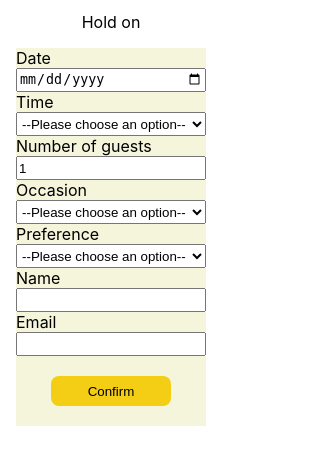
Test: Test BookingForm › Testing form validation on invalid inputs › test too small number of guests
The width and height of the screenshot is (320, 459).
Replace the text in the number field labelled "Number of guests" with "0": {"x": 111, "y": 168} [16,156,206,180]
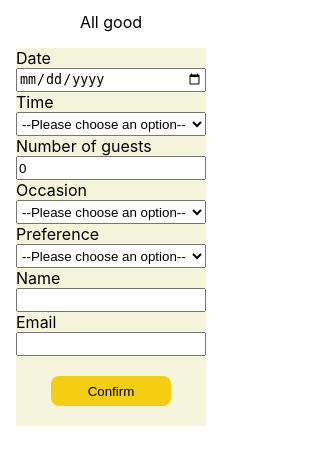
Leave the number field labelled "Number of guests", box [16,156,206,180]
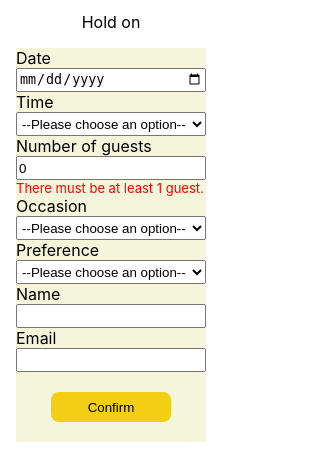
Result: the text with test id "res_guests_error" reads "There must be at least 1 guest." at [16,180,204,196]
